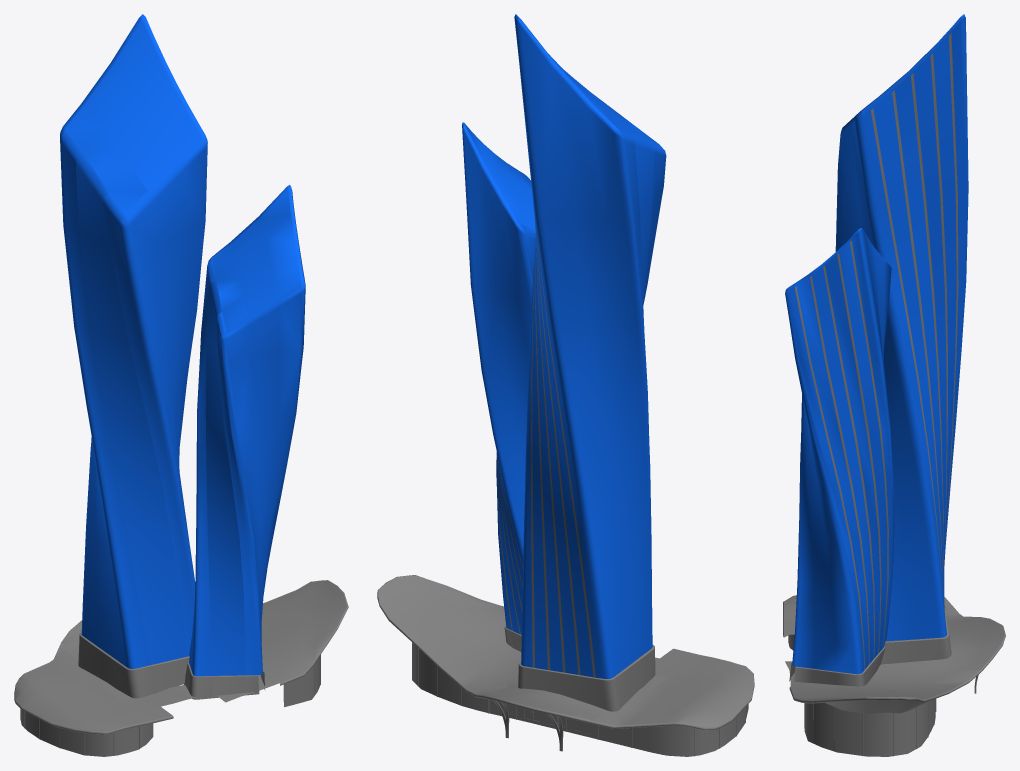
File: SM_Inversion_forum.fbx
The picture shows the model from 3 angles, left to right: view 1: azimuth 30°, elevation 25°; view 2: azimuth 150°, elevation 25°; view 3: azimuth 270°, elevation 25°; orthographic projection. The views are drawn at different scales.
Parts seen in each view (by area): view 1: SM_Inversion_forum; view 2: SM_Inversion_forum; view 3: SM_Inversion_forum.
Part boxes in pixels (left/top/right/bottom): SM_Inversion_forum: left=14, top=14, right=348, bottom=756; SM_Inversion_forum: left=377, top=14, right=754, bottom=756; SM_Inversion_forum: left=783, top=14, right=1005, bottom=756.
Bounding box in the file's own units: 7745 × 15369 × 4569.
